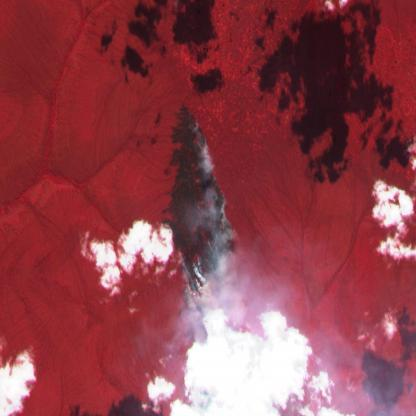fire: (161, 96, 241, 310)
